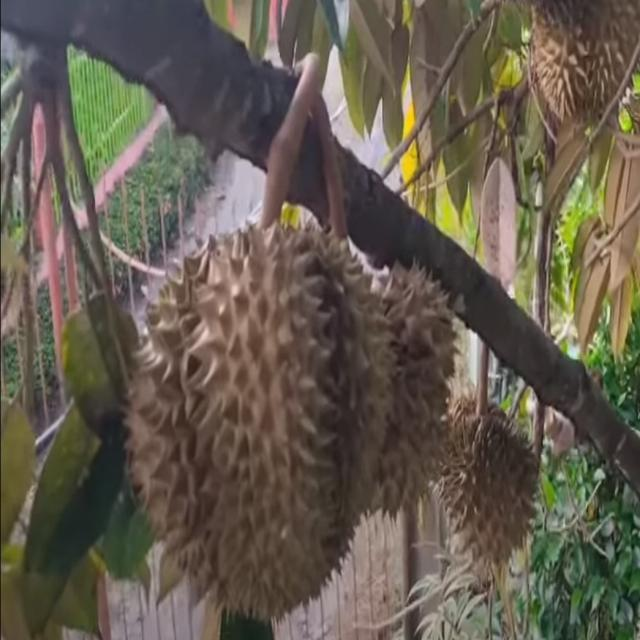mature: (122, 215, 400, 630), (305, 256, 458, 524), (420, 395, 538, 562)
